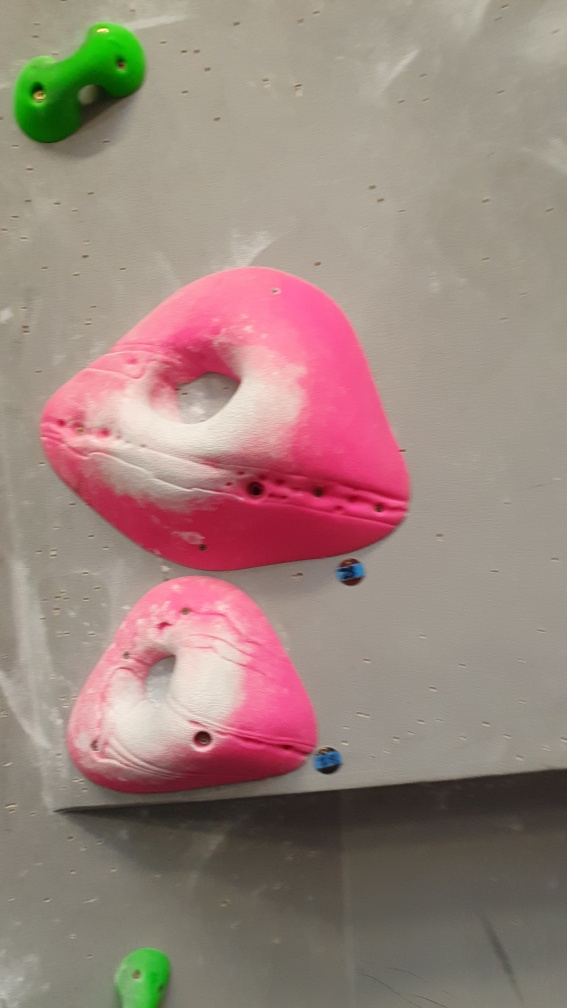Hand Start: (331, 553, 370, 591), (313, 743, 344, 776)
Pocket: (36, 264, 412, 578), (60, 576, 321, 798)
